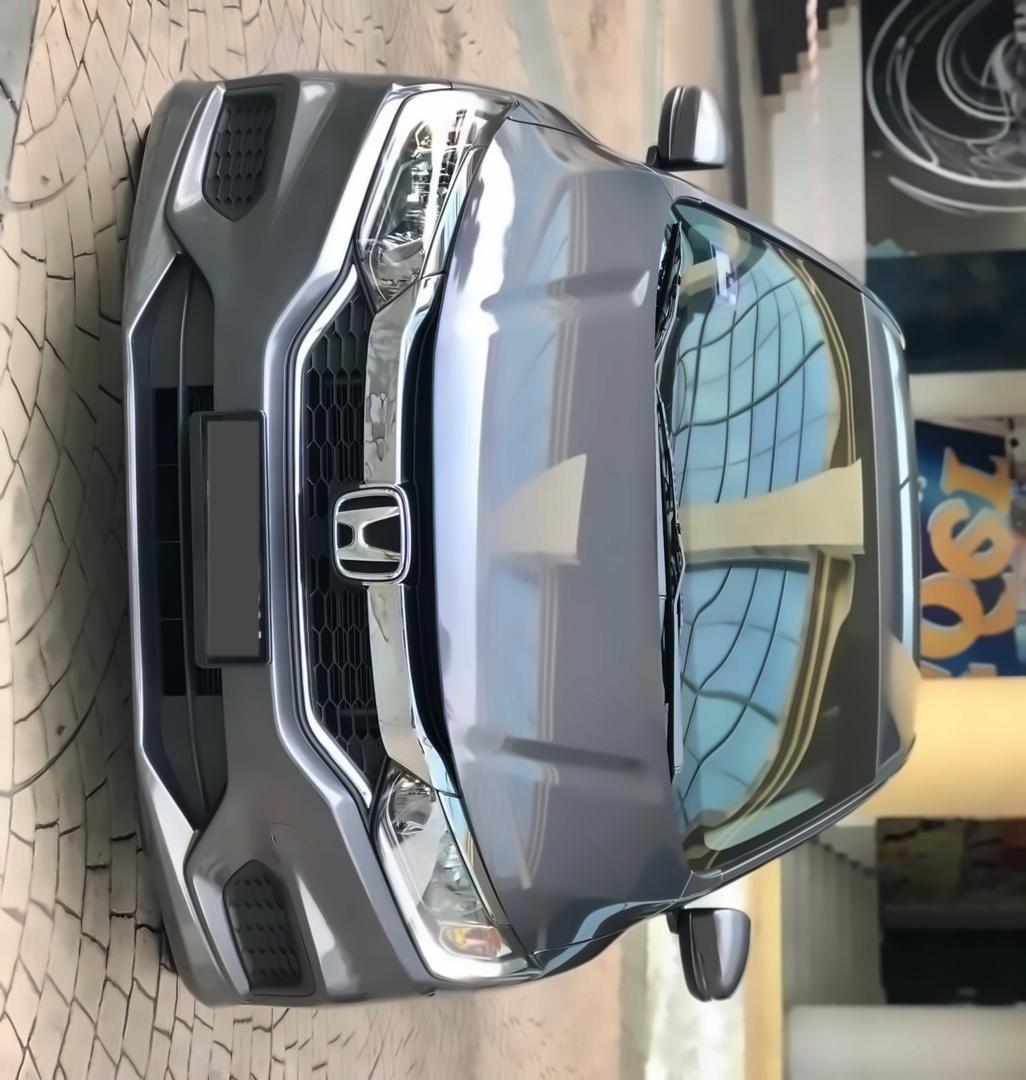Car hood: (422, 105, 709, 974)
Front bumper: (110, 60, 441, 1017)
Headlight - -L-: (369, 757, 538, 991)
Headlight - -R-: (349, 75, 519, 305)
Side mirror - -L-: (660, 895, 753, 1002)
Side mirror - -R-: (642, 82, 728, 184)
